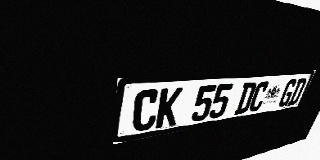5: (190, 85, 217, 122), (208, 84, 234, 119)
C: (131, 89, 161, 133), (247, 81, 270, 113)
D: (234, 82, 258, 115), (287, 78, 308, 106)
G: (277, 79, 298, 107)
K: (155, 87, 183, 129)
